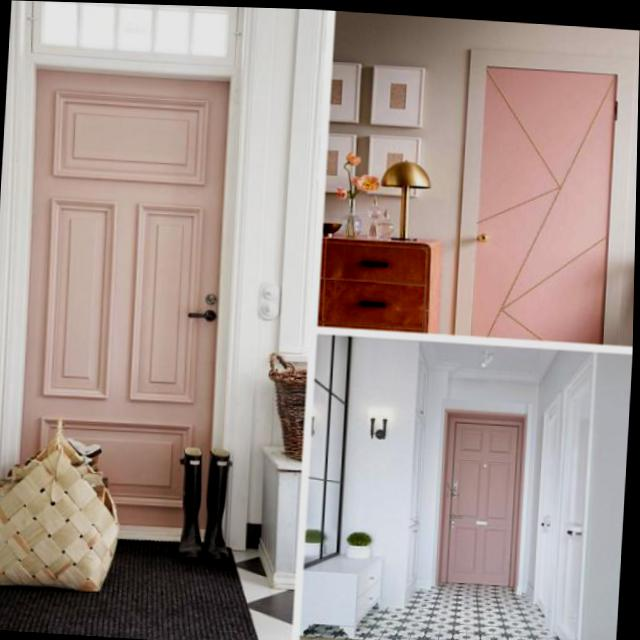close: (4, 51, 255, 552), (449, 39, 630, 343), (433, 394, 535, 593)
